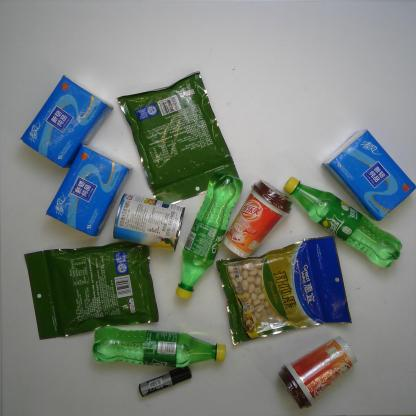Canned Food: (112, 191, 186, 252)
Dried Fruit: (116, 71, 242, 209), (220, 235, 355, 345), (24, 238, 160, 341)
Drink: (284, 176, 402, 270), (174, 171, 247, 300), (88, 324, 226, 367)
Instant Drink: (276, 334, 360, 410), (223, 177, 293, 262)
Stationery: (138, 364, 197, 397)
Tissue: (16, 72, 114, 168), (322, 128, 415, 222), (43, 143, 134, 237)
